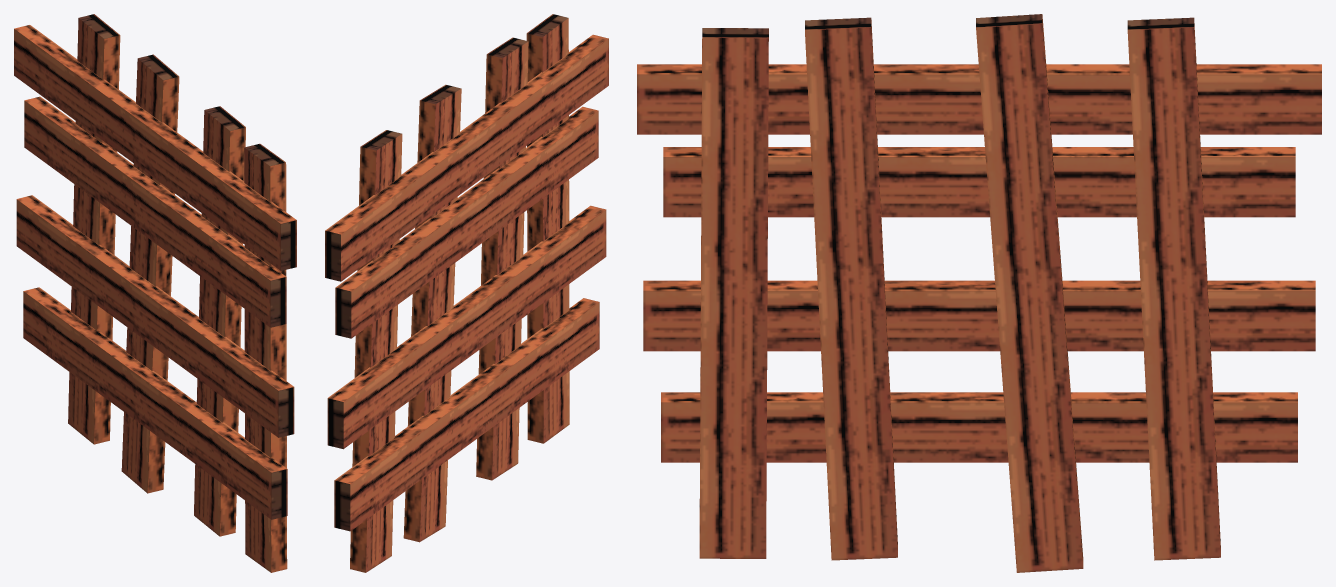
Rendered from WindowWoodCover.fbx.
3 views of the same model, side by side, from view 1: azimuth 30°, elevation 25°; view 2: azimuth 150°, elevation 25°; view 3: azimuth 270°, elevation 25° (orthographic). The views are drawn at different scales.
Parts seen in each view (by area): view 1: polySurface8; view 2: polySurface8; view 3: polySurface8.
Boxes of the visible parts, left/top/right/bottom form: polySurface8: left=14, top=14, right=296, bottom=572; polySurface8: left=325, top=14, right=608, bottom=572; polySurface8: left=637, top=14, right=1321, bottom=572.
Bounding box in the file's own units: 10.3 × 138 × 156.
